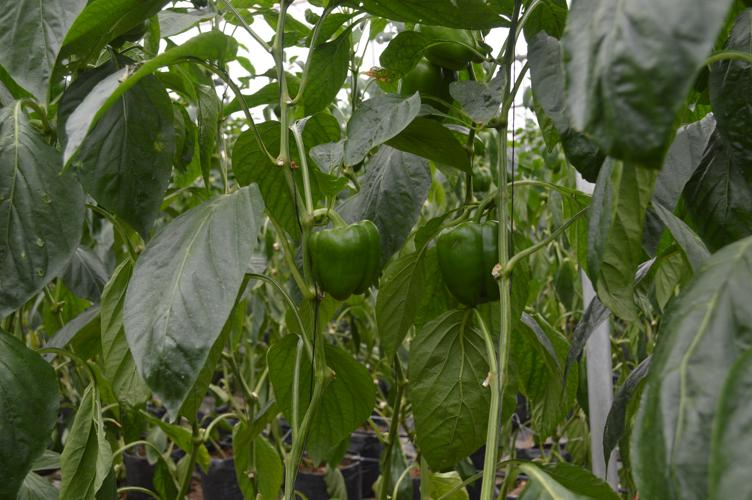BellPepper: (426, 212, 522, 312), (301, 218, 393, 308), (395, 49, 459, 125)
